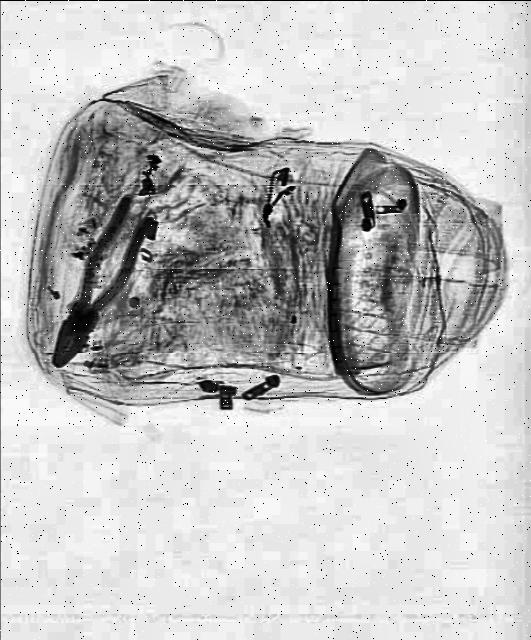Pliers: (38, 195, 162, 378)
